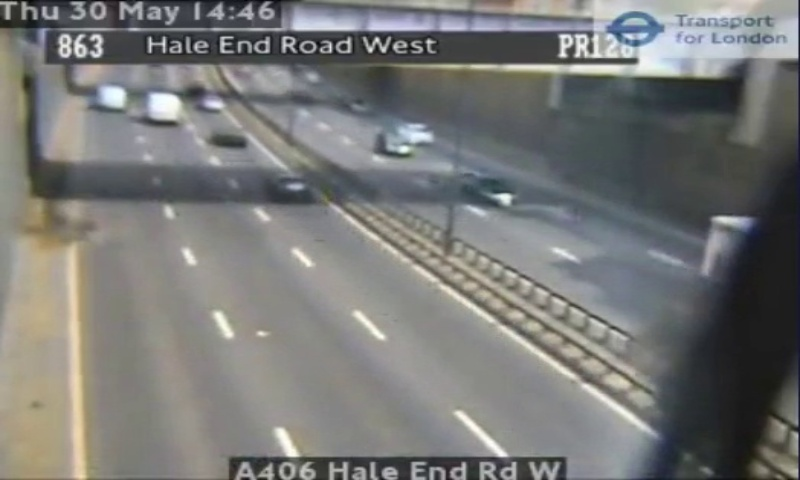van: (145, 92, 180, 121)
